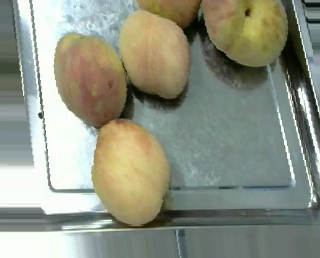Peach: (89, 118, 170, 226), (52, 30, 128, 127), (120, 9, 190, 99), (203, 0, 286, 66)
